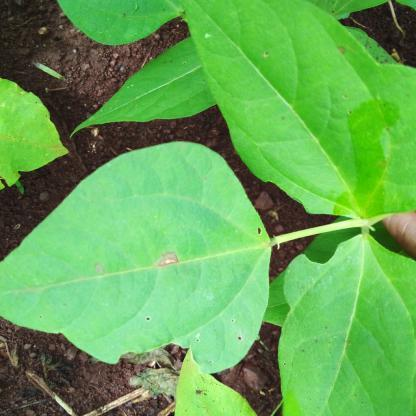Beans_Angular_LeafSpot: (0, 140, 277, 376)
